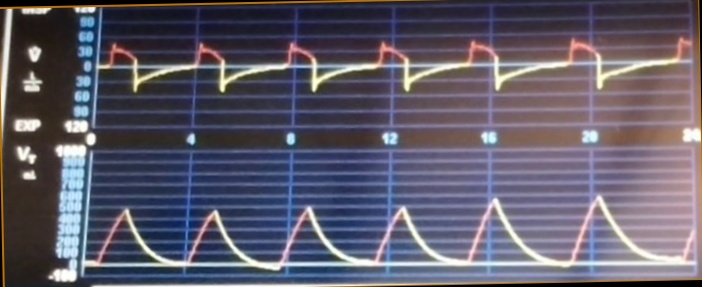Normal Flow: (101, 12, 693, 115)
Normal Volume: (89, 185, 693, 272)
